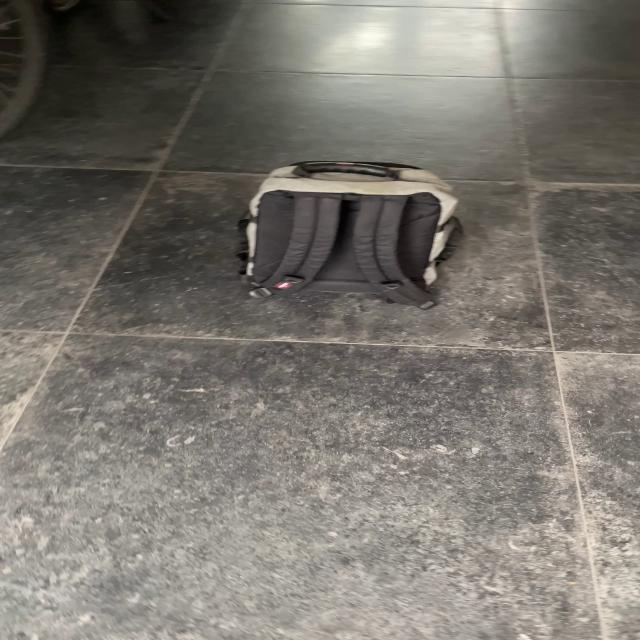backpack: (231, 154, 471, 300)
